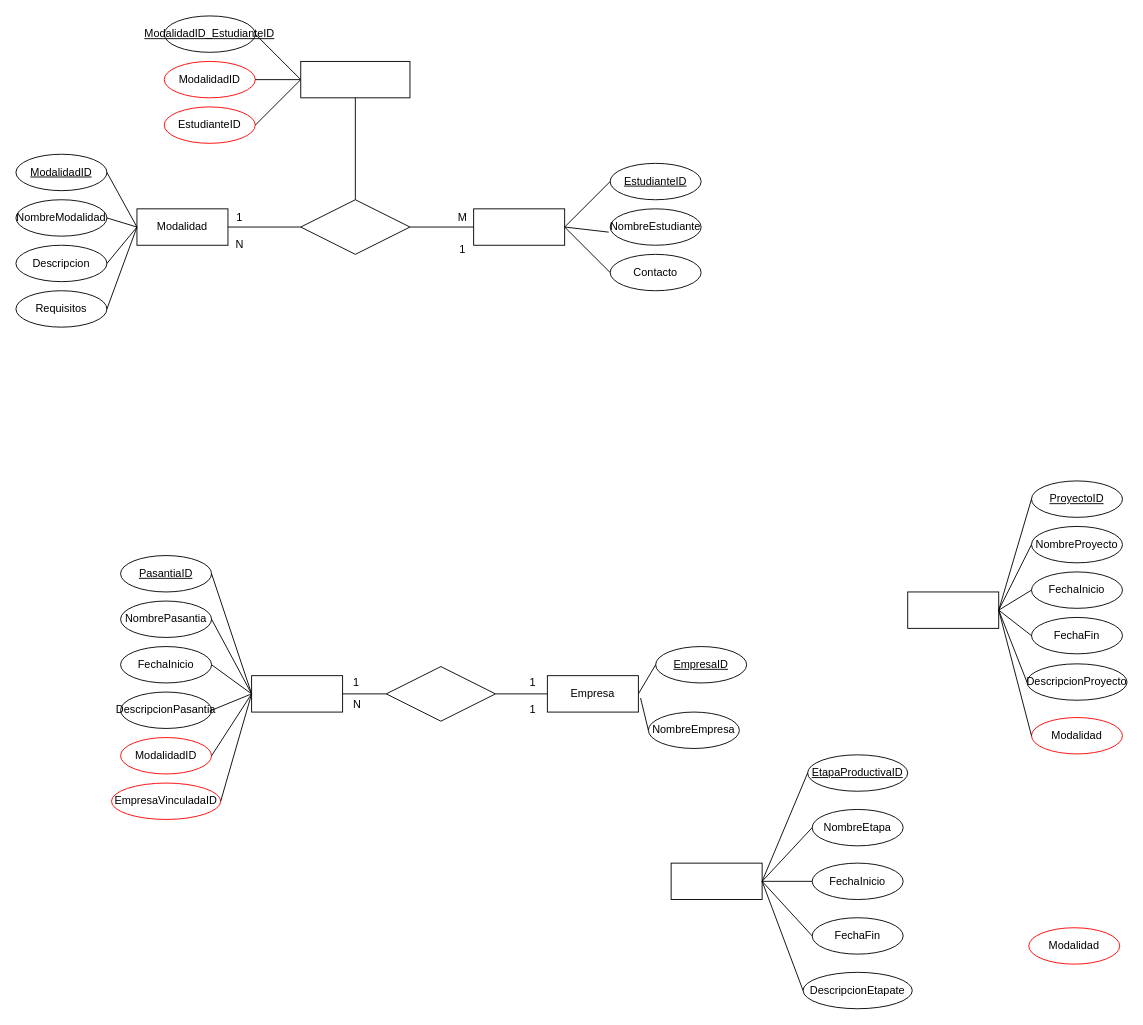
The diagram is 1143 pixels wide and 1025 high, and some of its shapes have lost their labels. Here are the shapes that lost their labels. From the top down, the box of each, then its label:
(300, 61, 410, 98): SeleccionModalidad
(300, 199, 410, 254): Tiene
(473, 208, 565, 245): Estudiante
(907, 591, 999, 628): proyecto
(251, 675, 343, 712): Pasantias
(385, 666, 495, 721): Contiene
(670, 862, 762, 900): EtapaProductiva
